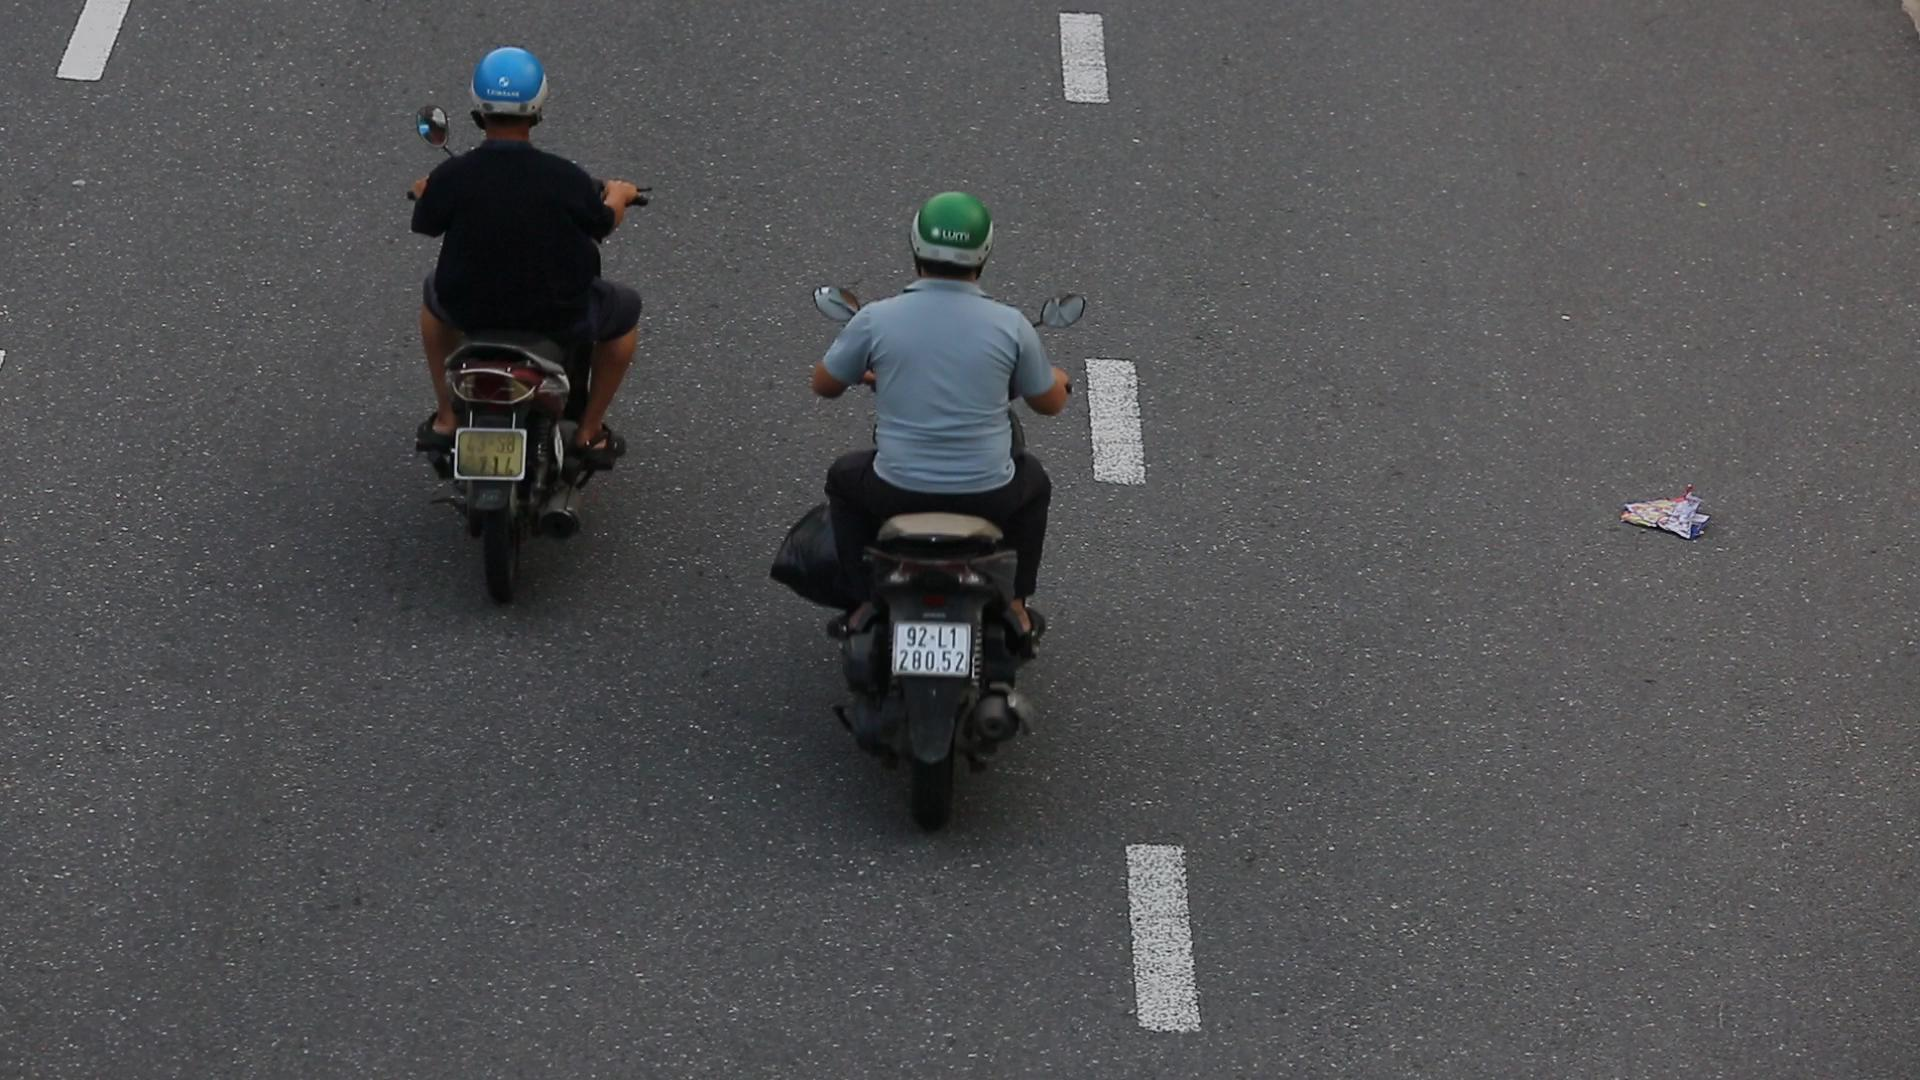motobike: (773, 164, 1101, 843), (364, 34, 663, 640)
